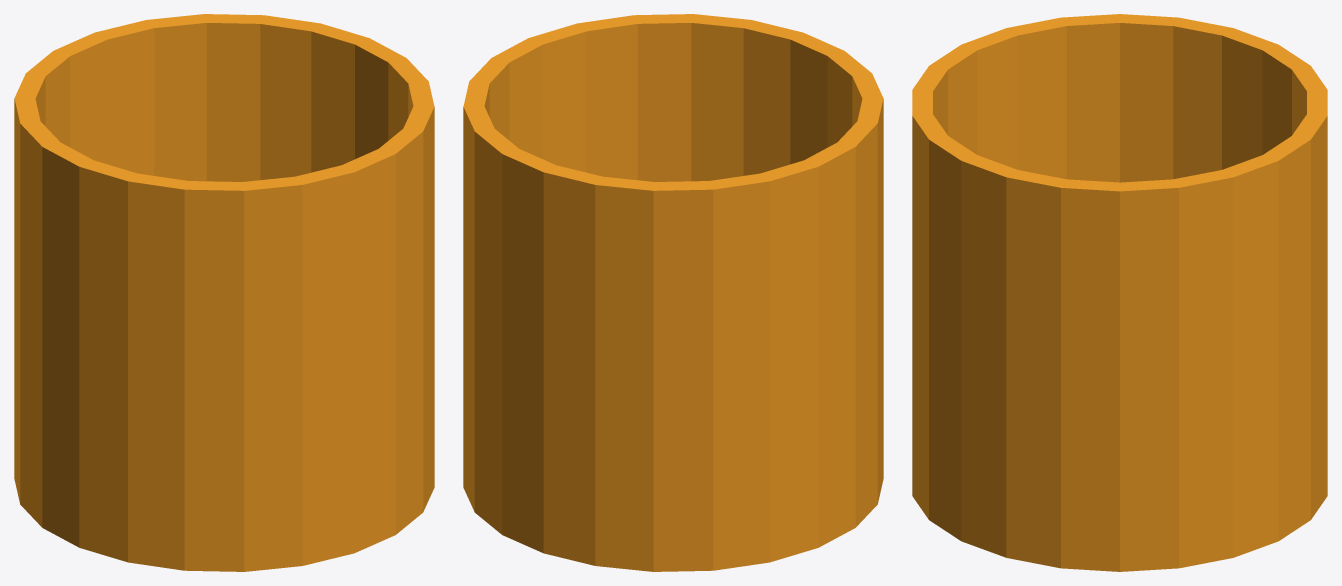
The picture shows the model from 3 angles, left to right: view 1: azimuth 30°, elevation 25°; view 2: azimuth 150°, elevation 25°; view 3: azimuth 270°, elevation 25°; orthographic projection.
Visible parts, largest first — view 1: SM_Primitive_Tube_04; view 2: SM_Primitive_Tube_04; view 3: SM_Primitive_Tube_04.
Boxes of the visible parts, left/top/right/bottom form: SM_Primitive_Tube_04: left=14, top=14, right=434, bottom=571; SM_Primitive_Tube_04: left=463, top=14, right=883, bottom=571; SM_Primitive_Tube_04: left=912, top=14, right=1327, bottom=571.
Bounding box in the file's own units: 100 × 100 × 98.98.
